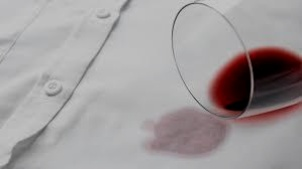wine: (143, 104, 232, 155)
